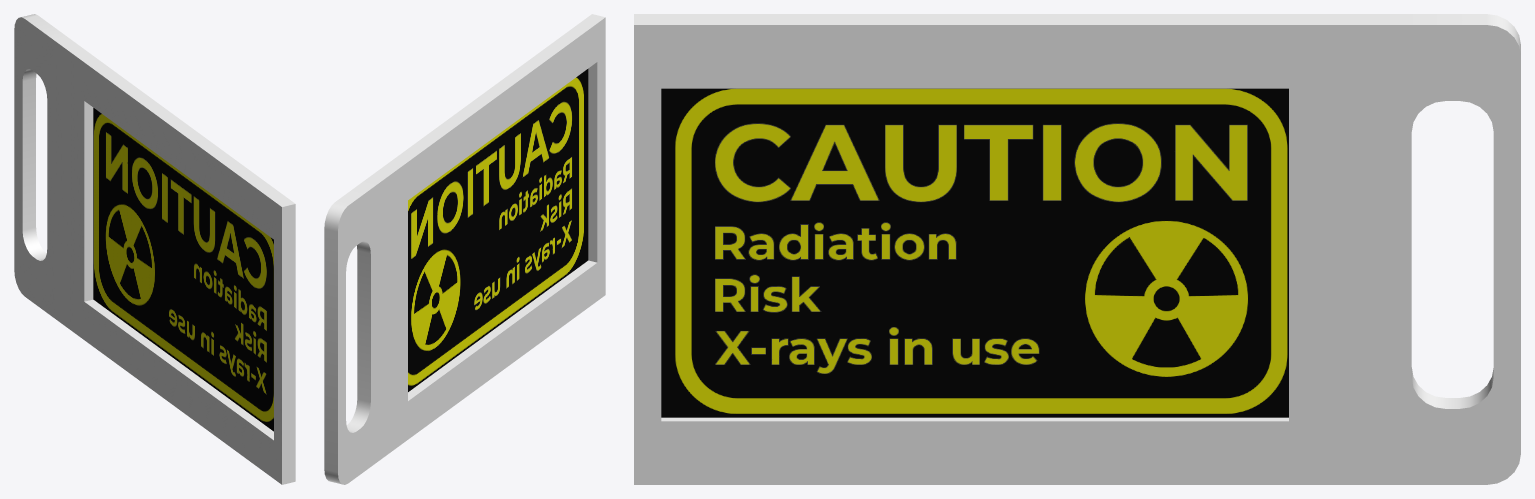
File: X-ray_machine_door.gltf
3 renders of one model, left to right at view 1: azimuth 30°, elevation 25°; view 2: azimuth 150°, elevation 25°; view 3: azimuth 270°, elevation 25°, orthographic. The views are drawn at different scales.
Parts seen in each view (by area): view 1: Cube.003; view 2: Cube.003; view 3: Cube.003.
Part boxes in pixels (left/top/right/bottom): Cube.003: left=14, top=14, right=295, bottom=484; Cube.003: left=324, top=14, right=605, bottom=484; Cube.003: left=634, top=14, right=1520, bottom=484.
Size of the model in its own units: 0.0095 by 0.186 by 0.325.
2 materials, 1 textured.
